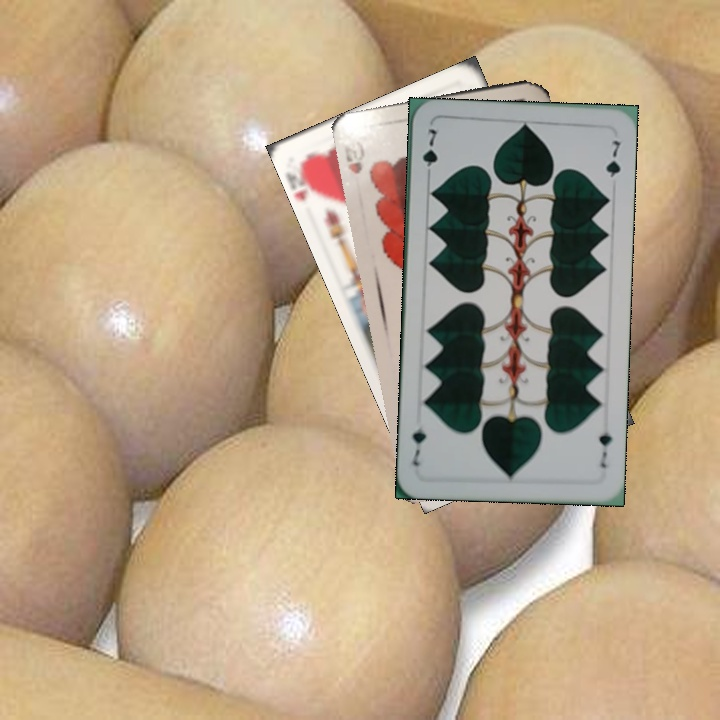G7: (418, 124, 440, 183), (595, 428, 615, 471)
H10: (339, 136, 367, 176)
HK: (285, 156, 323, 204)
